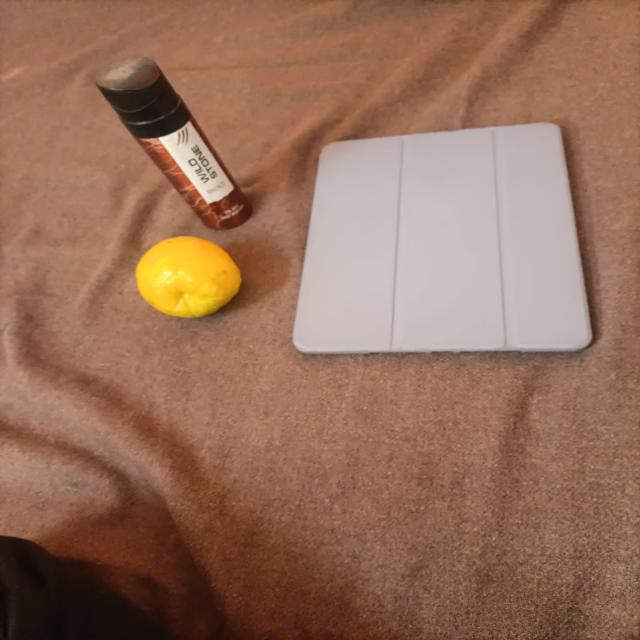orange: (115, 232, 260, 330)
spray: (51, 32, 275, 244)
tablet: (279, 74, 601, 383)
